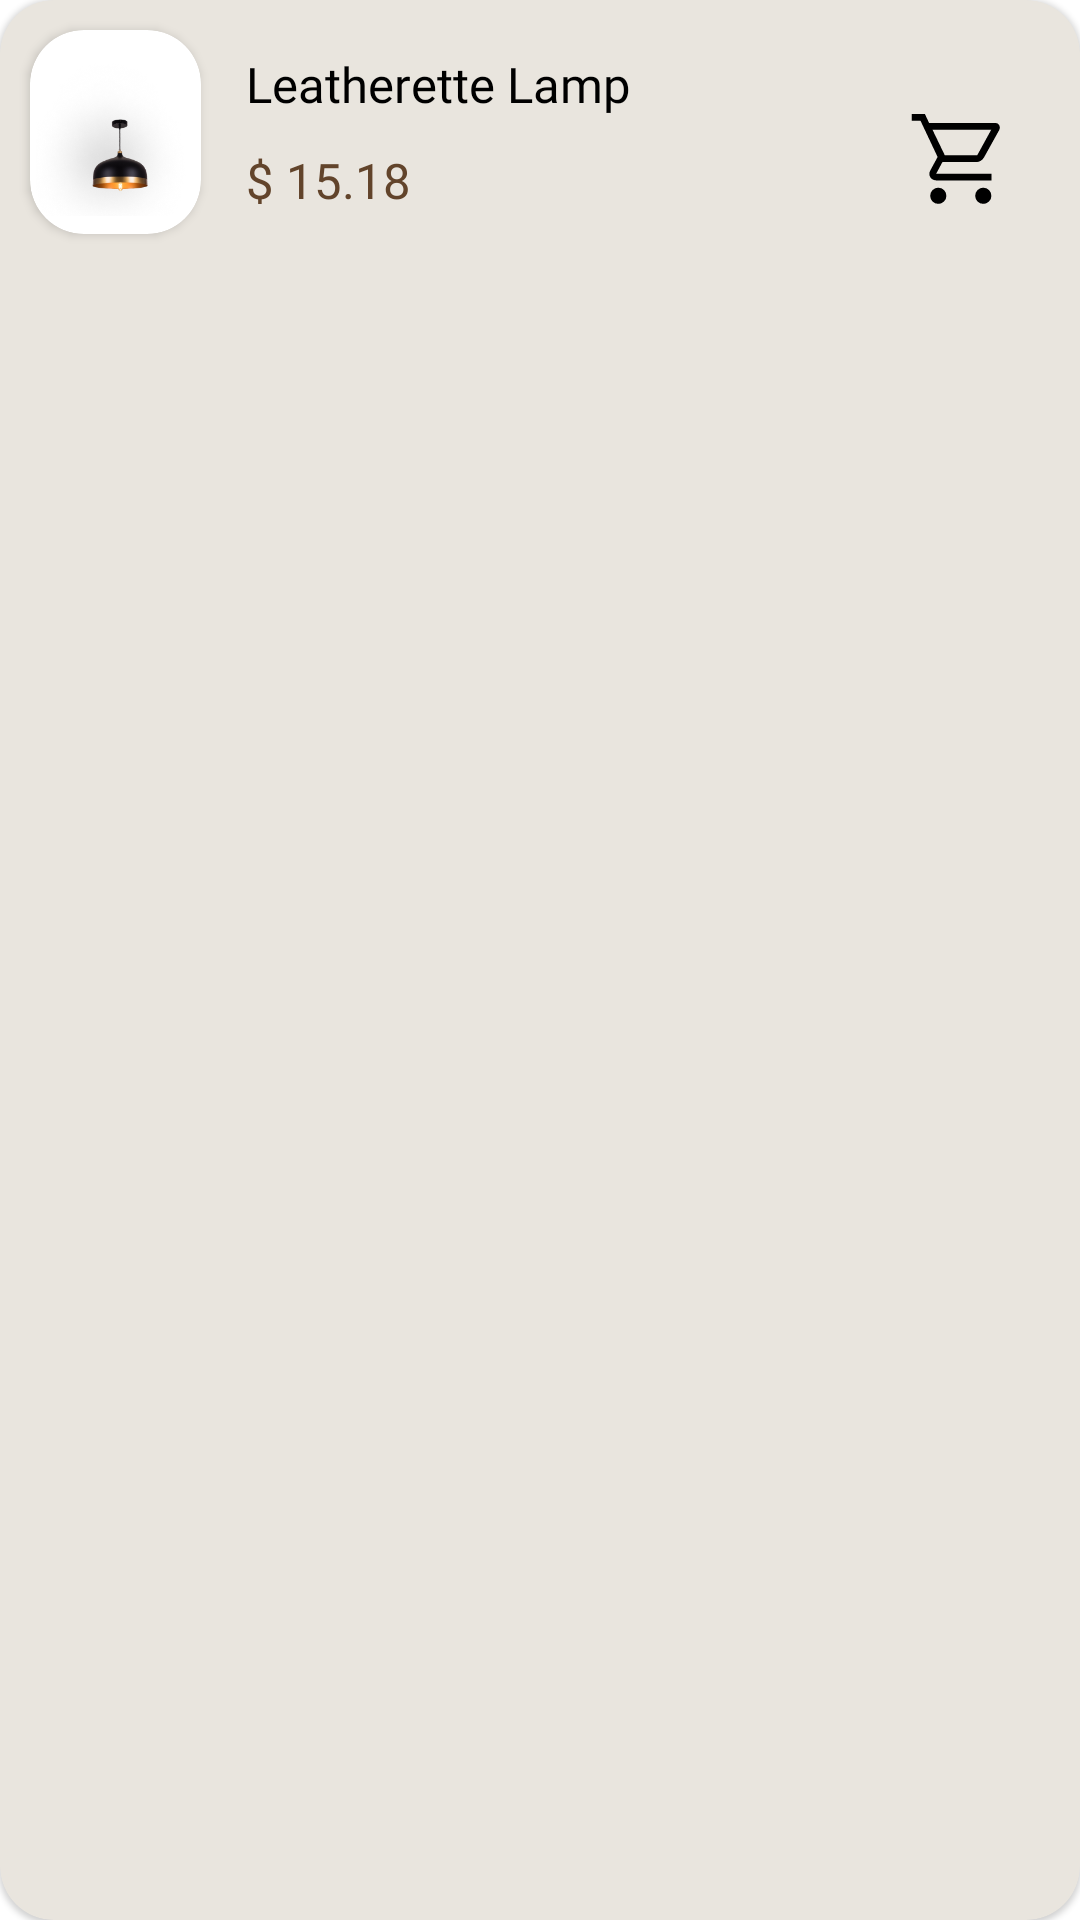

Locate icon controls on the screen. Image size 1080 × 1920, boxes as (x1, y1, x2, y2).
shopping cart: (911, 114, 1000, 204)
